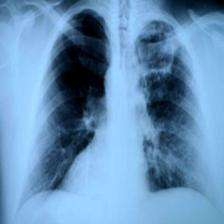tuberculosis: (11, 9, 211, 224)
